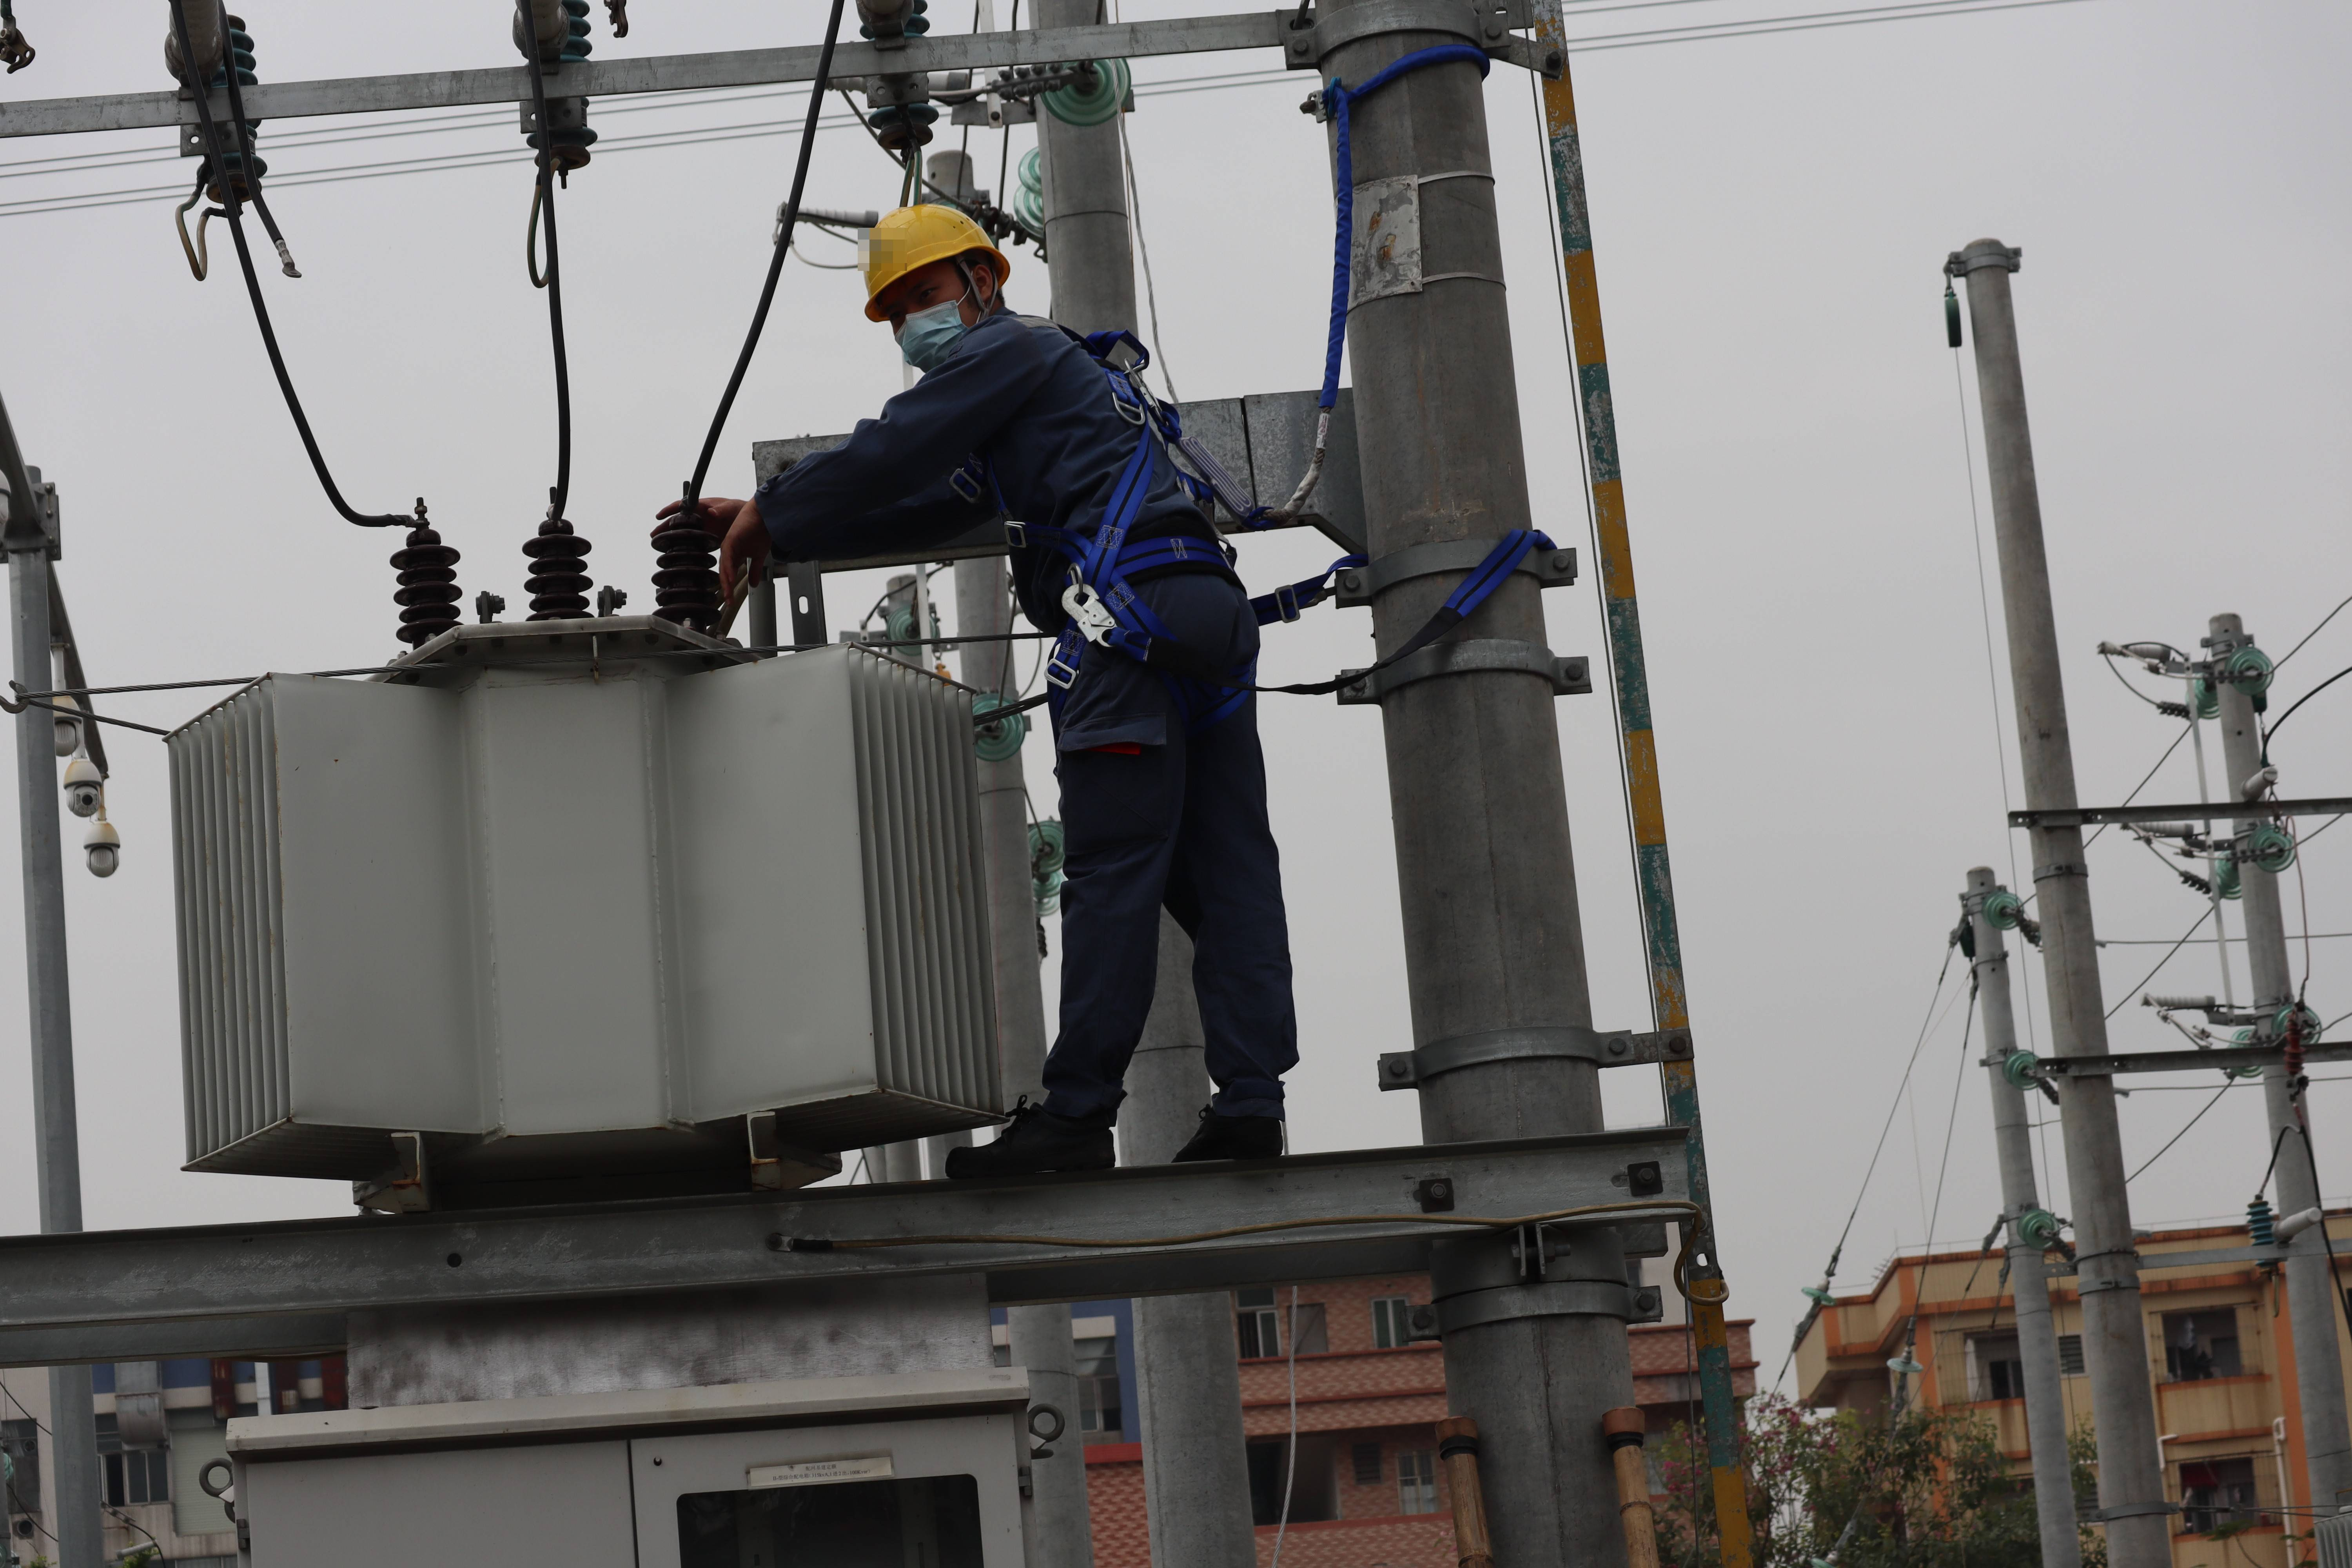downsuit: (1038, 600, 1306, 1108)
upsuit: (775, 324, 1216, 576)
